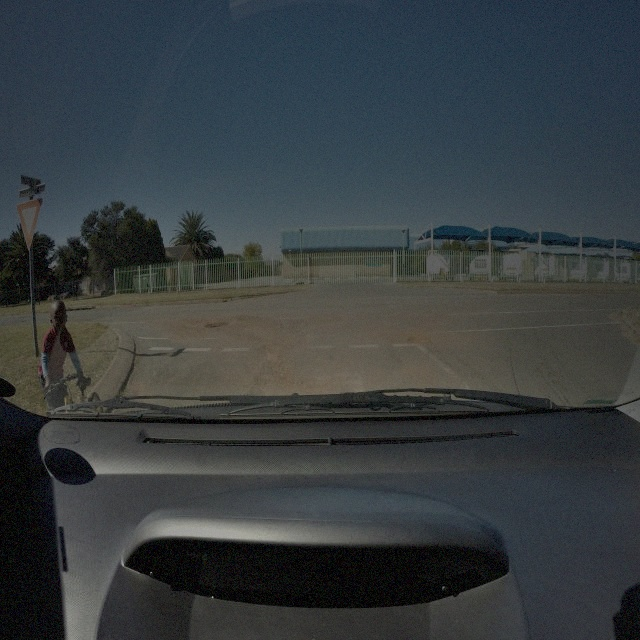pothole: (204, 319, 230, 328), (406, 336, 424, 344)
